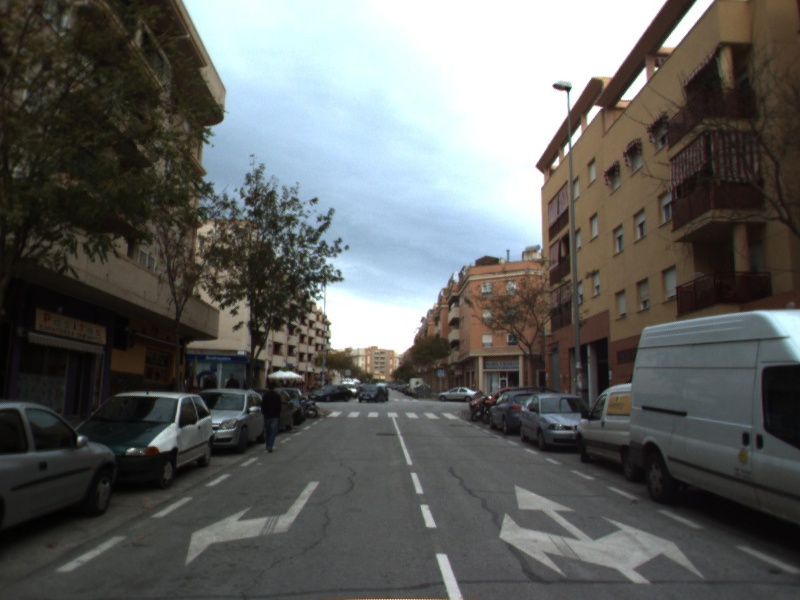STRAIGHT_LEFT_RIGHT: (496, 480, 709, 586)
